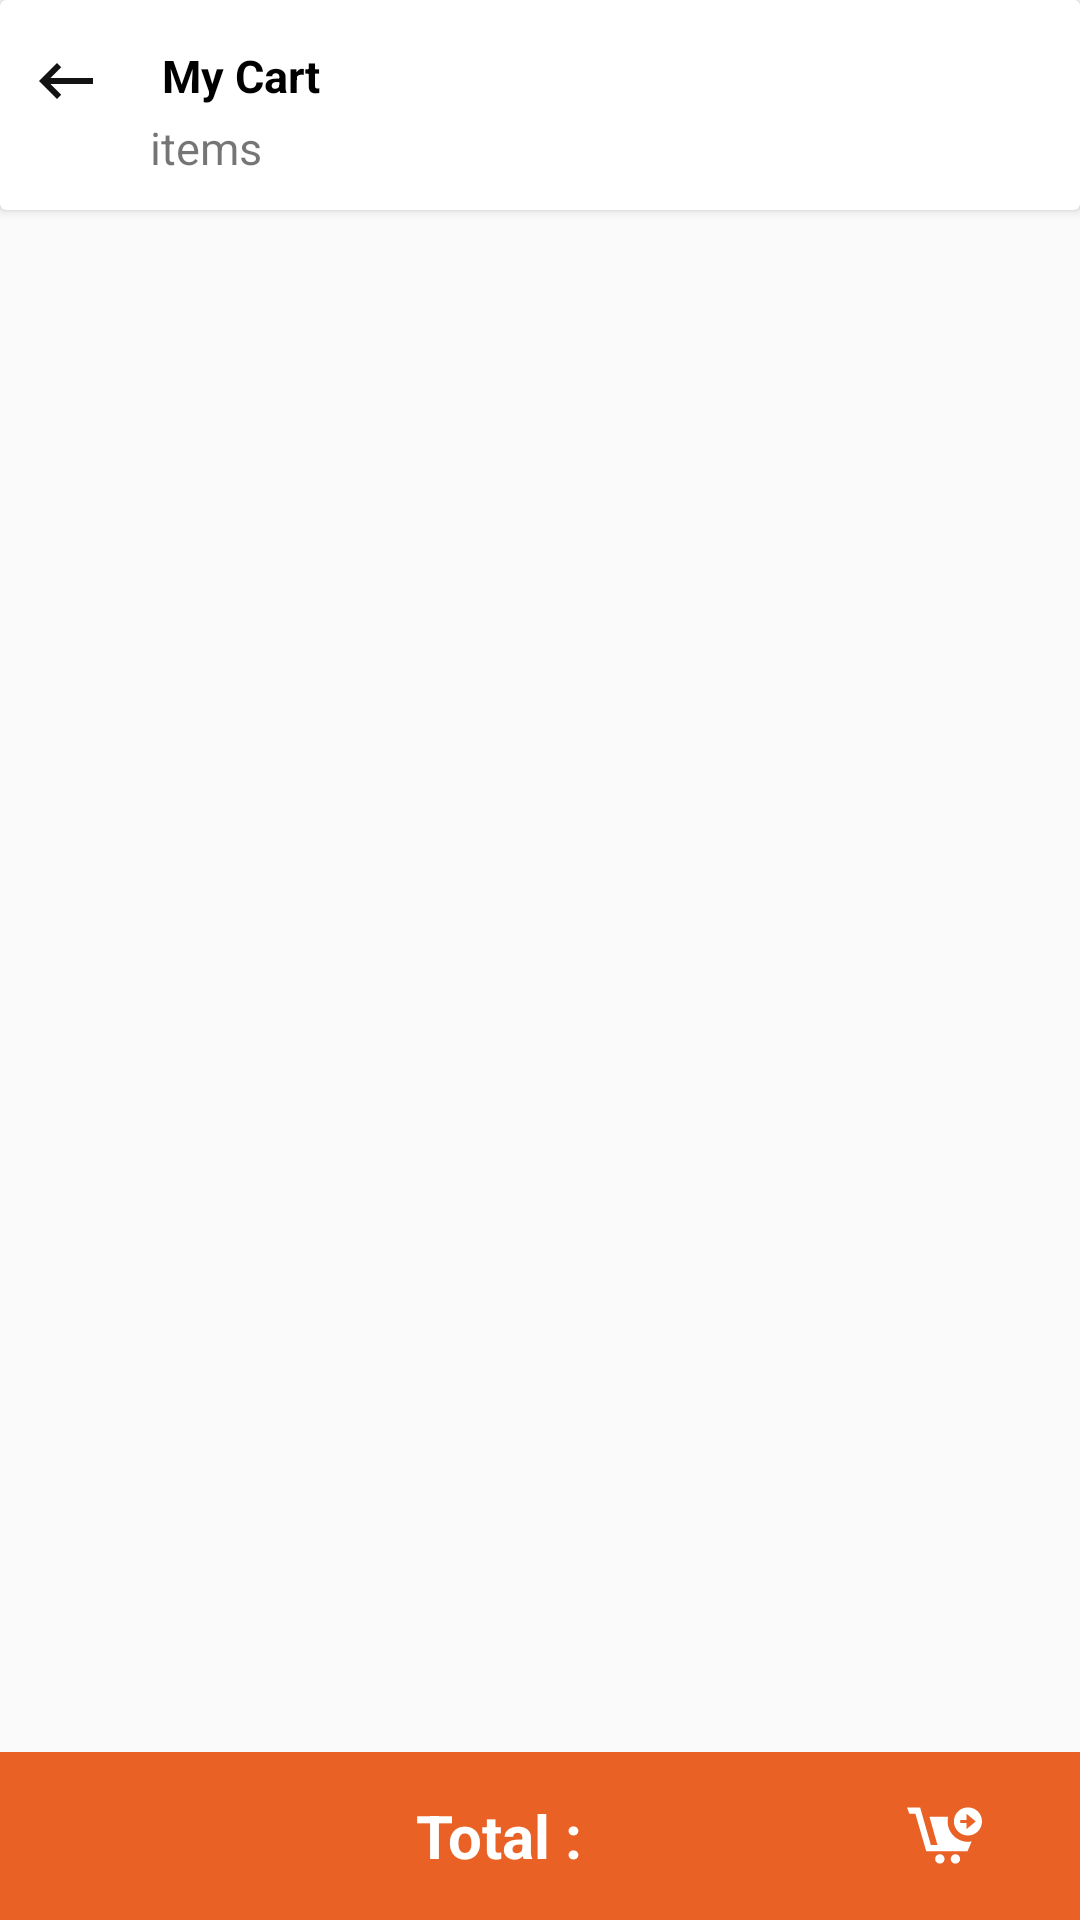

Locate icon controls on the screen. Image size 1080 x 1920, boxes as (x1, y1, x2, y2).
checkout: (907, 1807, 982, 1864)
